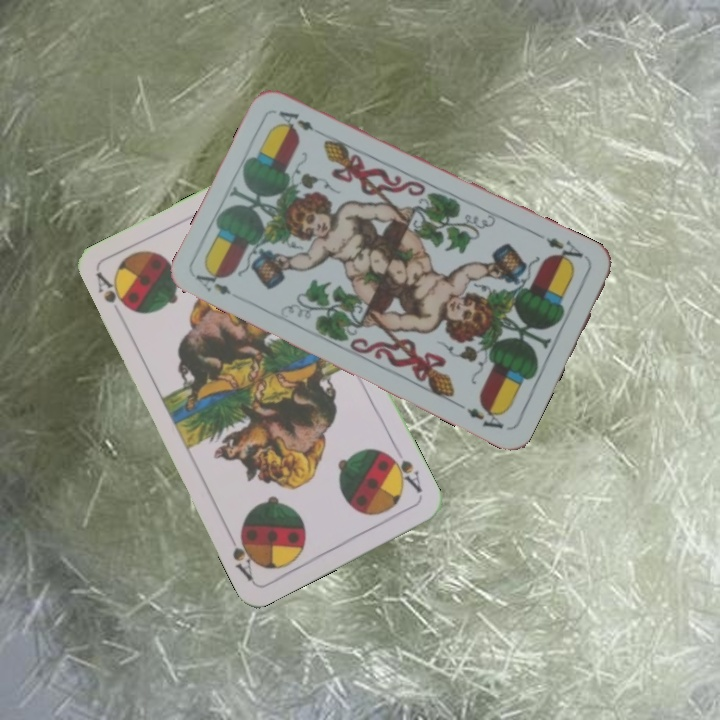EA: (541, 233, 591, 269), (191, 264, 234, 298)
SA: (382, 448, 425, 496), (92, 268, 130, 312)
